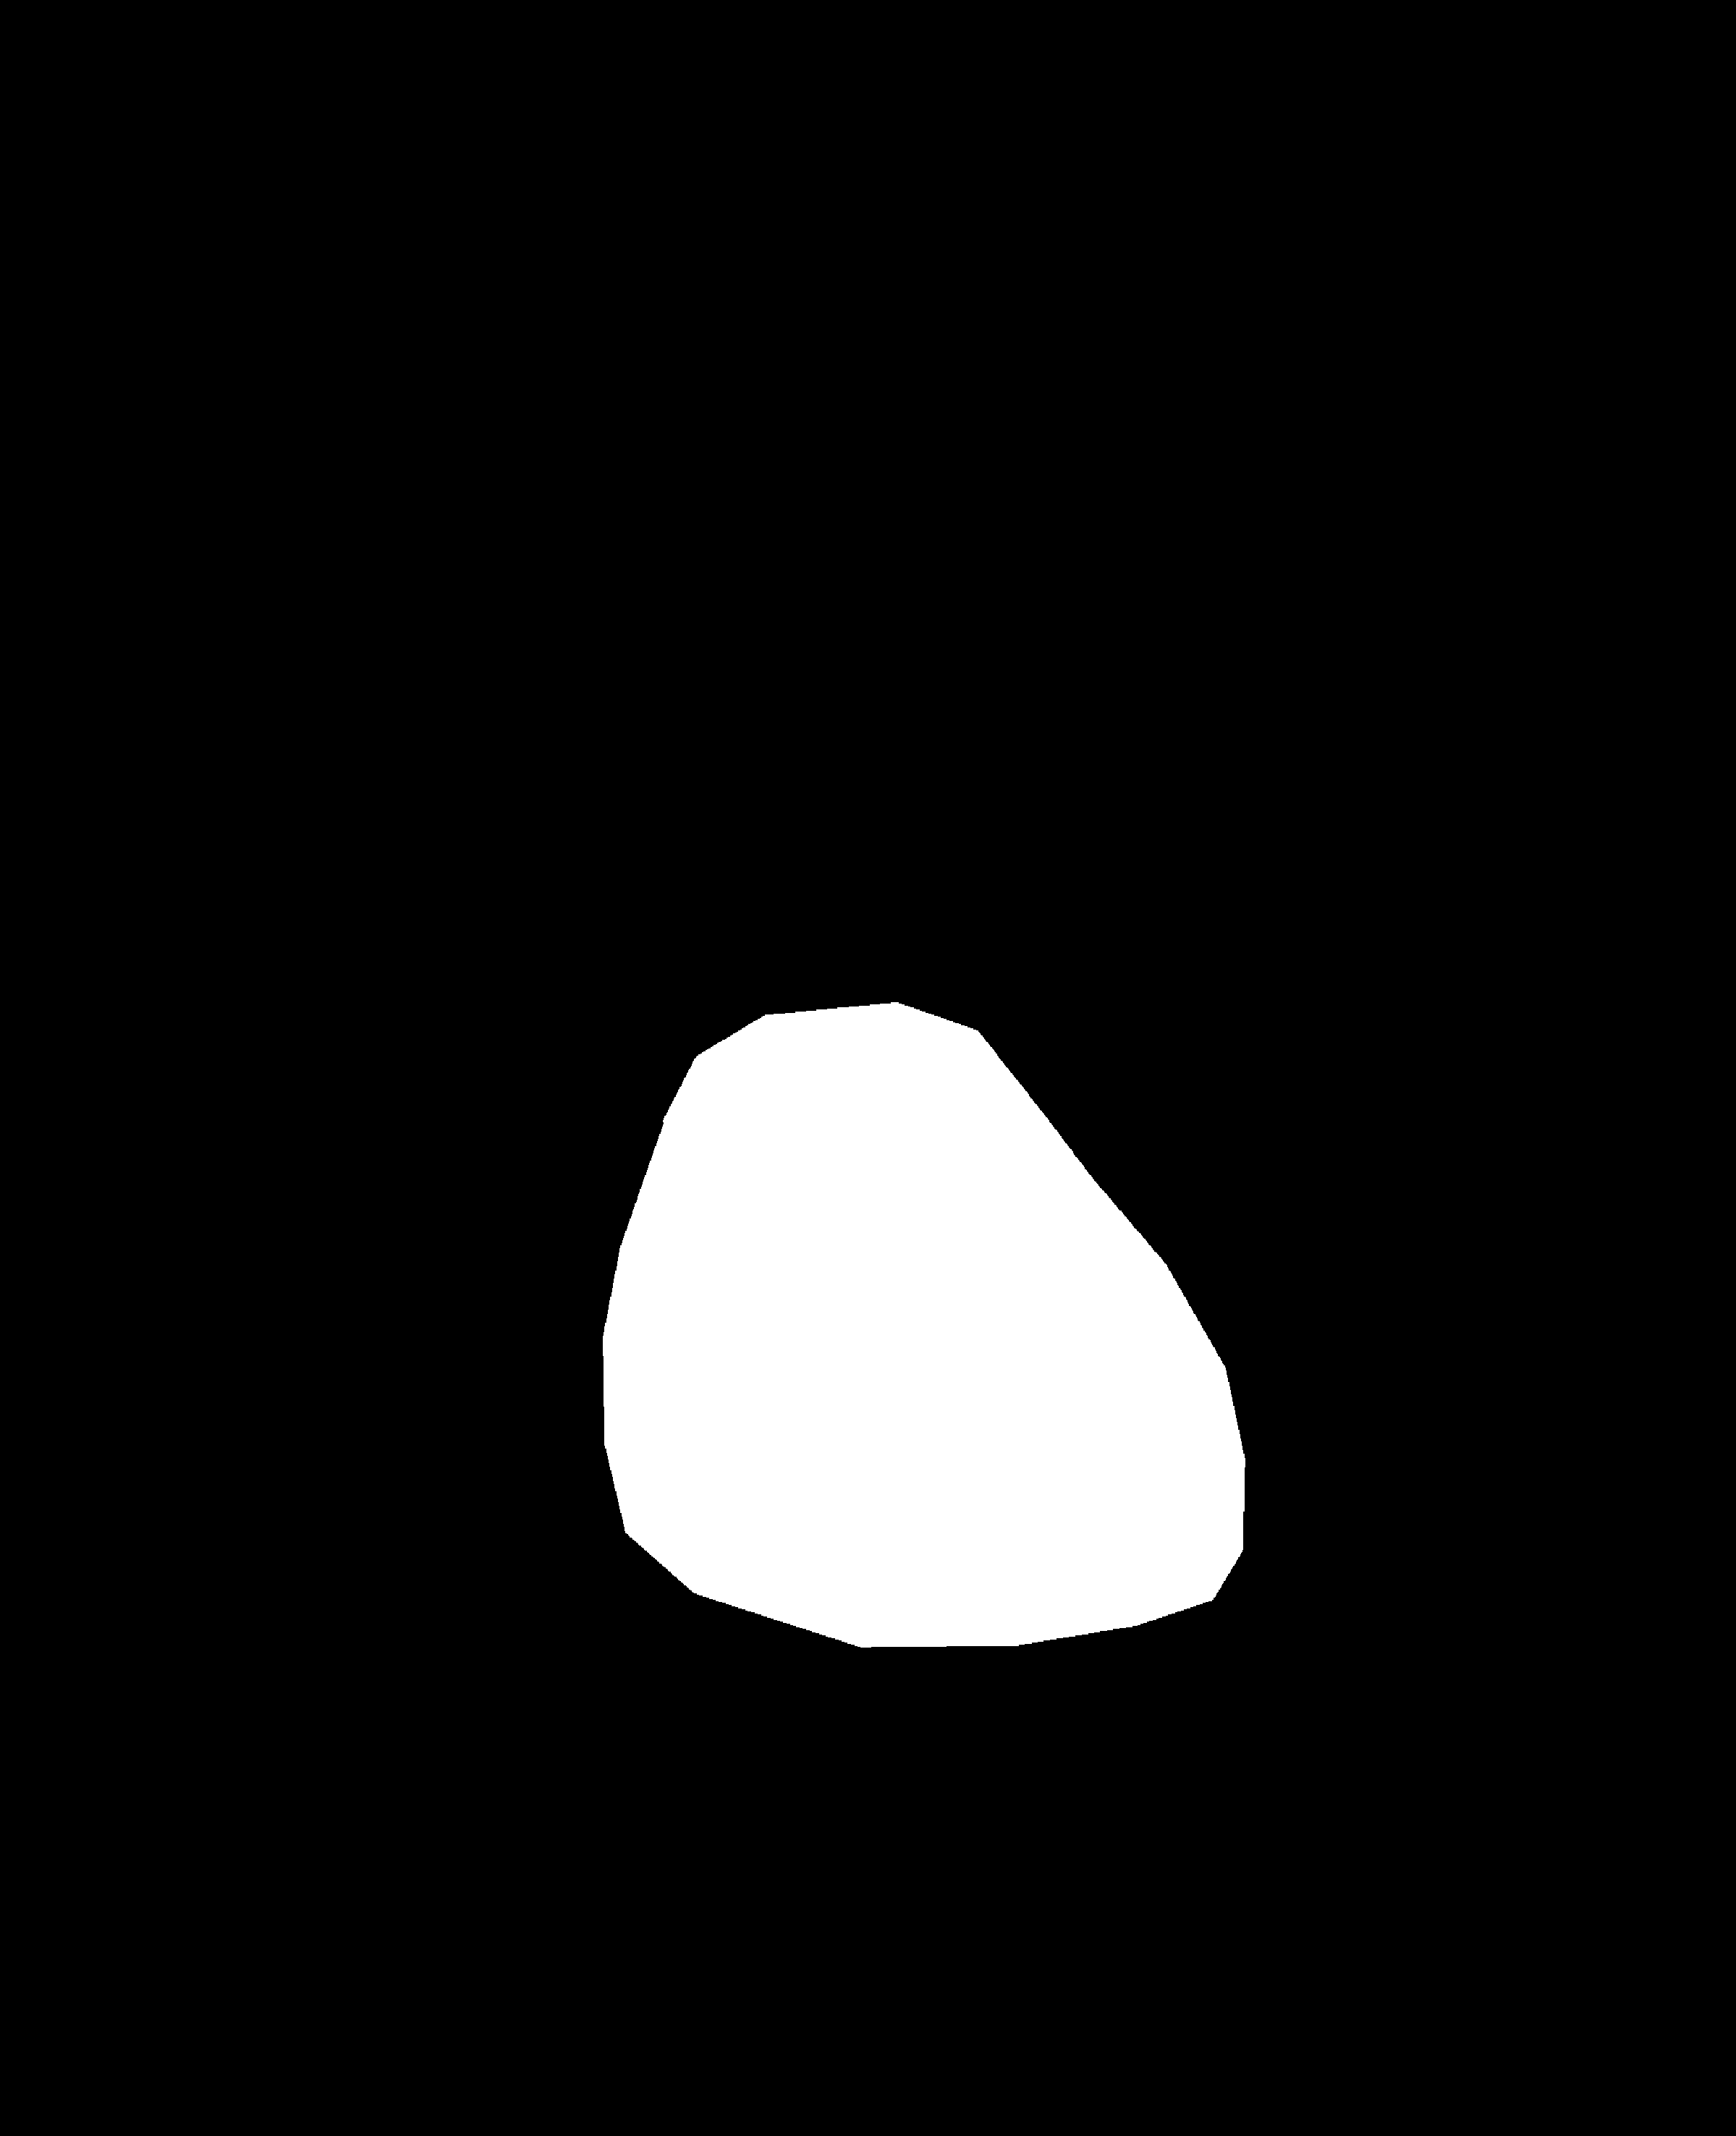heart: (574, 1137, 1252, 1668)
left_lung: (197, 264, 792, 1599)
right_lung: (937, 260, 1534, 1807)
